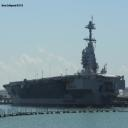Portanaves: (2, 13, 128, 113)
